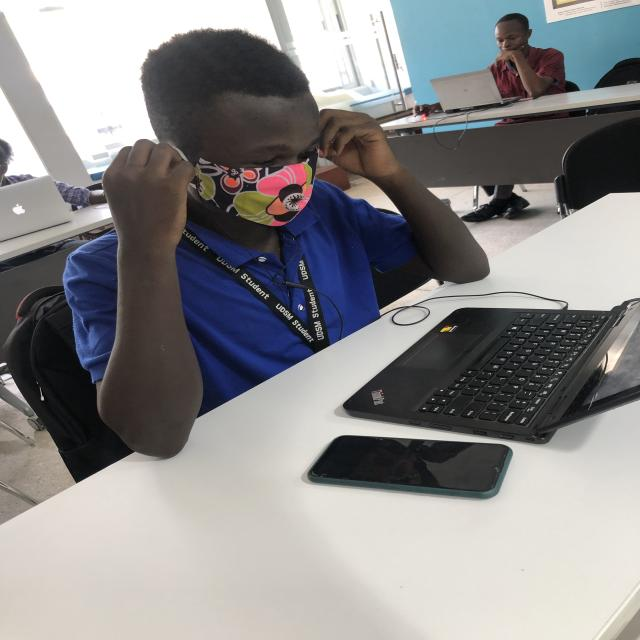mask: (188, 90, 322, 230), (0, 148, 13, 182)
no-mask: (494, 21, 528, 57)
